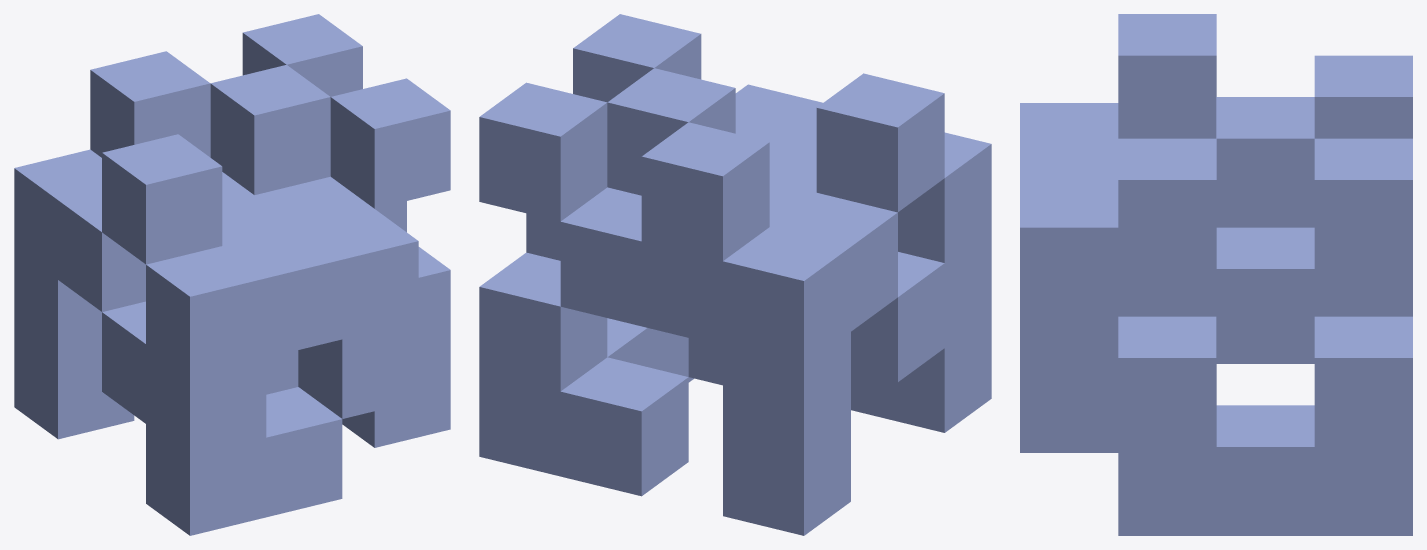
3 renders of one model, left to right at view 1: azimuth 30°, elevation 25°; view 2: azimuth 150°, elevation 25°; view 3: azimuth 270°, elevation 25°, orthographic. The views are drawn at different scales.
Parts seen in each view (by area): view 1: _changes.002; view 2: _changes.002; view 3: _changes.002.
Part boxes in pixels (left/top/right/bottom): _changes.002: left=14, top=14, right=450, bottom=535; _changes.002: left=479, top=14, right=991, bottom=535; _changes.002: left=1020, top=14, right=1412, bottom=535.
Size of the model in its own units: 0.1041 by 0.1041 by 0.1041.
